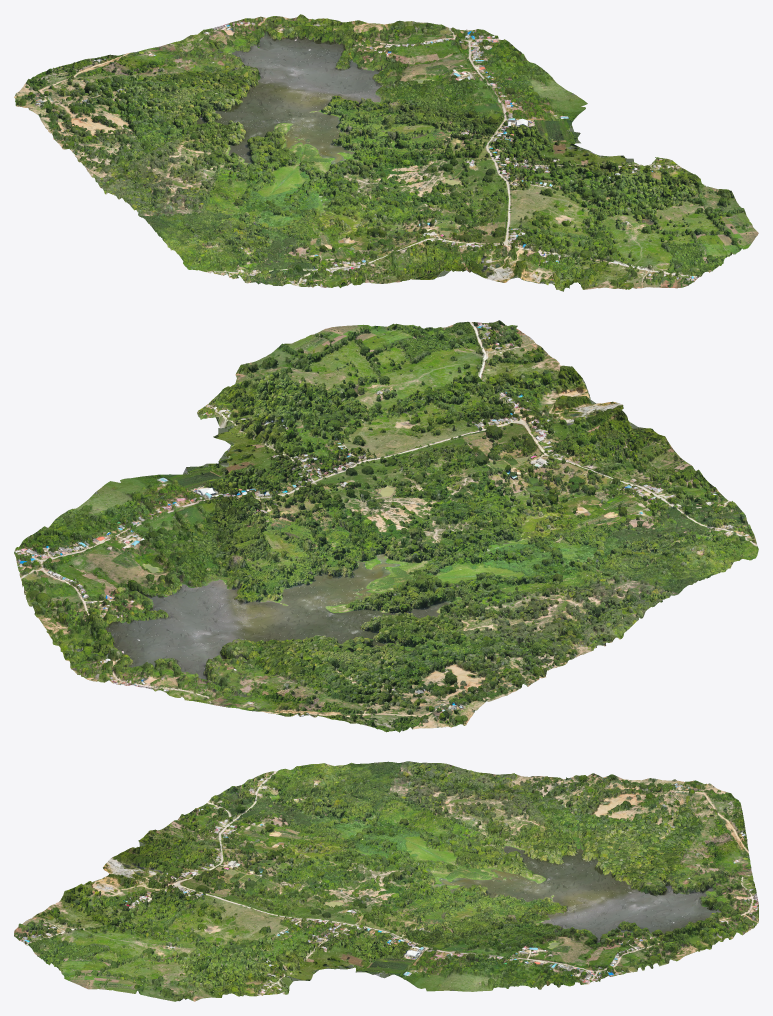
File: villeros.glb
3 views of the same model, one above another, from view 1: azimuth 30°, elevation 25°; view 2: azimuth 150°, elevation 25°; view 3: azimuth 270°, elevation 25° (orthographic). The views are drawn at different scales.
Parts seen in each view (by area): view 1: material_00, material_01, material_02, material_03, material_04, material_05, material_06, material_07, material_10, material_08, material_12, material_09 (+5 smaller); view 2: material_00, material_01, material_02, material_07, material_03, material_04, material_06, material_10, material_05, material_08, material_12, material_09 (+5 smaller); view 3: material_00, material_01, material_02, material_03, material_04, material_05, material_06, material_10, material_08, material_07, material_13, material_12 (+5 smaller).
Part boxes in pixels (<box>): material_00: <box>15,16,749,287</box>; material_01: <box>33,18,744,288</box>; material_02: <box>20,19,737,291</box>; material_03: <box>20,18,745,287</box>; material_04: <box>26,21,741,287</box>; material_05: <box>24,14,744,285</box>; material_06: <box>15,18,743,290</box>; material_07: <box>29,18,721,286</box>; material_10: <box>35,21,719,288</box>; material_08: <box>17,16,726,289</box>; material_12: <box>20,16,746,278</box>; material_09: <box>52,28,751,275</box>; material_00: <box>19,323,754,730</box>; material_01: <box>21,325,743,730</box>; material_02: <box>25,320,756,725</box>; material_07: <box>21,326,754,731</box>; material_03: <box>26,325,751,732</box>; material_04: <box>31,329,753,726</box>; material_06: <box>41,327,748,725</box>; material_10: <box>35,322,719,710</box>; material_05: <box>21,325,730,723</box>; material_08: <box>22,329,747,727</box>; material_12: <box>47,331,739,729</box>; material_09: <box>17,325,739,717</box>; material_00: <box>27,763,754,1000</box>; material_01: <box>38,765,753,1001</box>; material_02: <box>14,768,749,998</box>; material_03: <box>28,771,756,994</box>; material_04: <box>22,765,735,1000</box>; material_05: <box>50,766,735,996</box>; material_06: <box>27,769,748,995</box>; material_10: <box>14,775,758,976</box>; material_08: <box>28,767,758,990</box>; material_07: <box>47,767,758,987</box>; material_13: <box>32,773,758,996</box>; material_12: <box>44,761,754,993</box>.
Size of the model in its own units: 1526 by 82.56 by 2090.
Materials: 17 (17 with a texture image).
